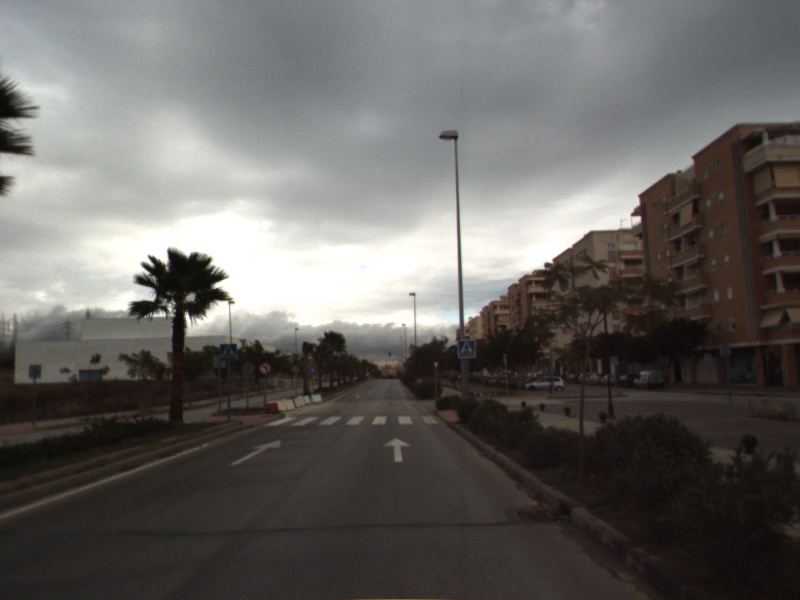STRAIGHT: (229, 438, 283, 467), (382, 435, 413, 464)
